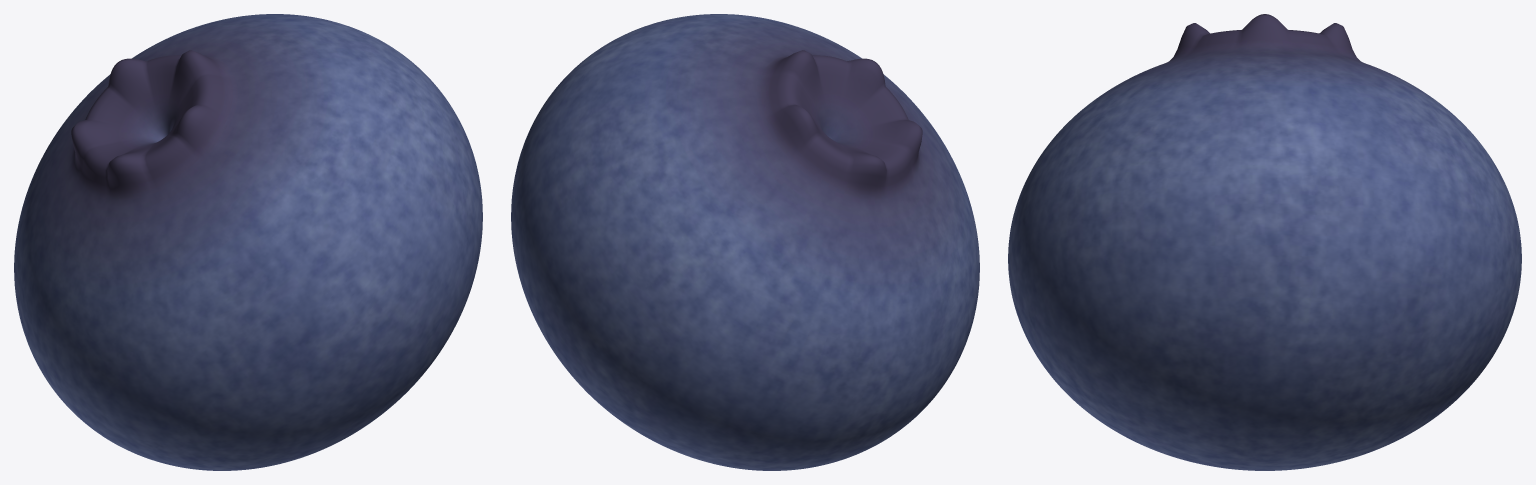
The model's file is blueberry.glb.
3 views of the same model, side by side, from view 1: azimuth 30°, elevation 25°; view 2: azimuth 150°, elevation 25°; view 3: azimuth 270°, elevation 25° (orthographic). The views are drawn at different scales.
Parts seen in each view (by area): view 1: blueberry; view 2: blueberry; view 3: blueberry.
Part boxes in pixels (bbox=[...]): blueberry: bbox=[14, 14, 482, 470]; blueberry: bbox=[511, 14, 979, 470]; blueberry: bbox=[1008, 14, 1521, 470].
Bounding box in the file's own units: 1.89 × 1.81 × 2.
Materials: 1 (1 with a texture image).
